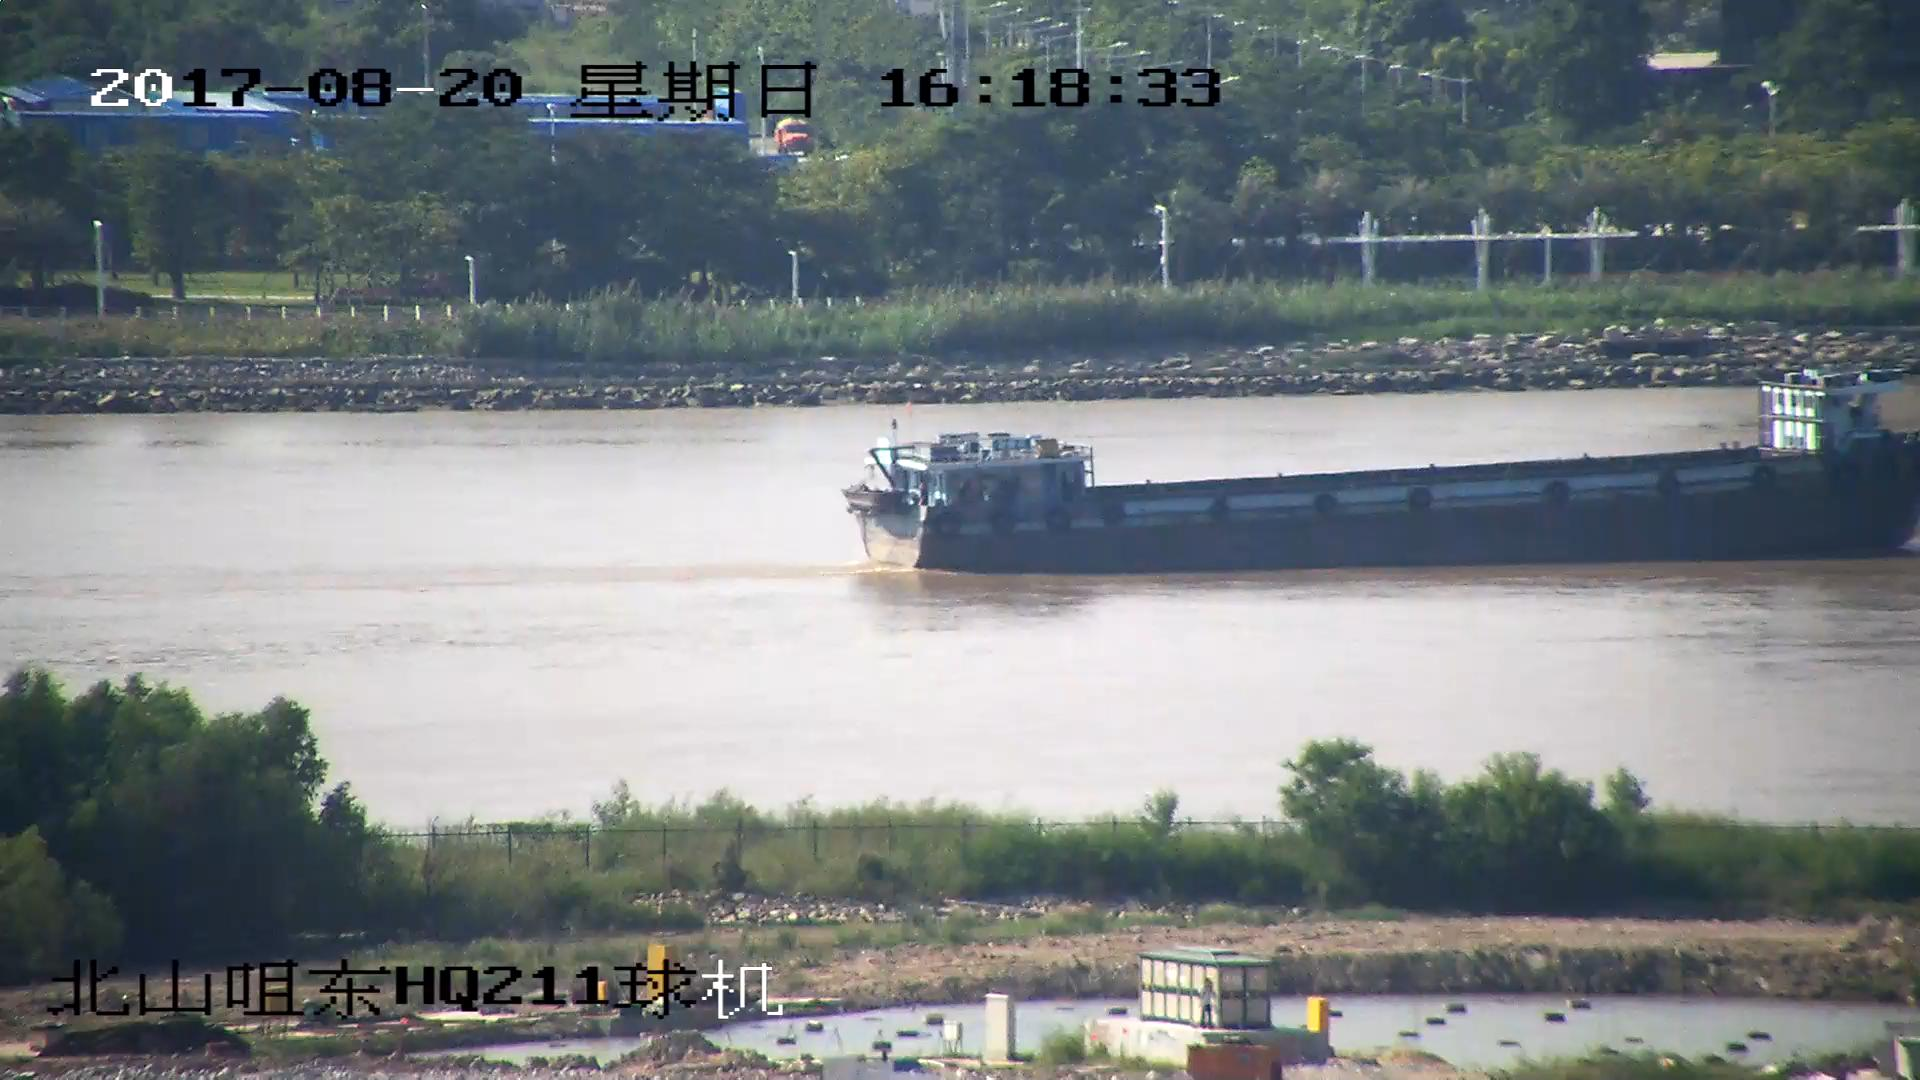general cargo ship: (855, 372, 1920, 579)
